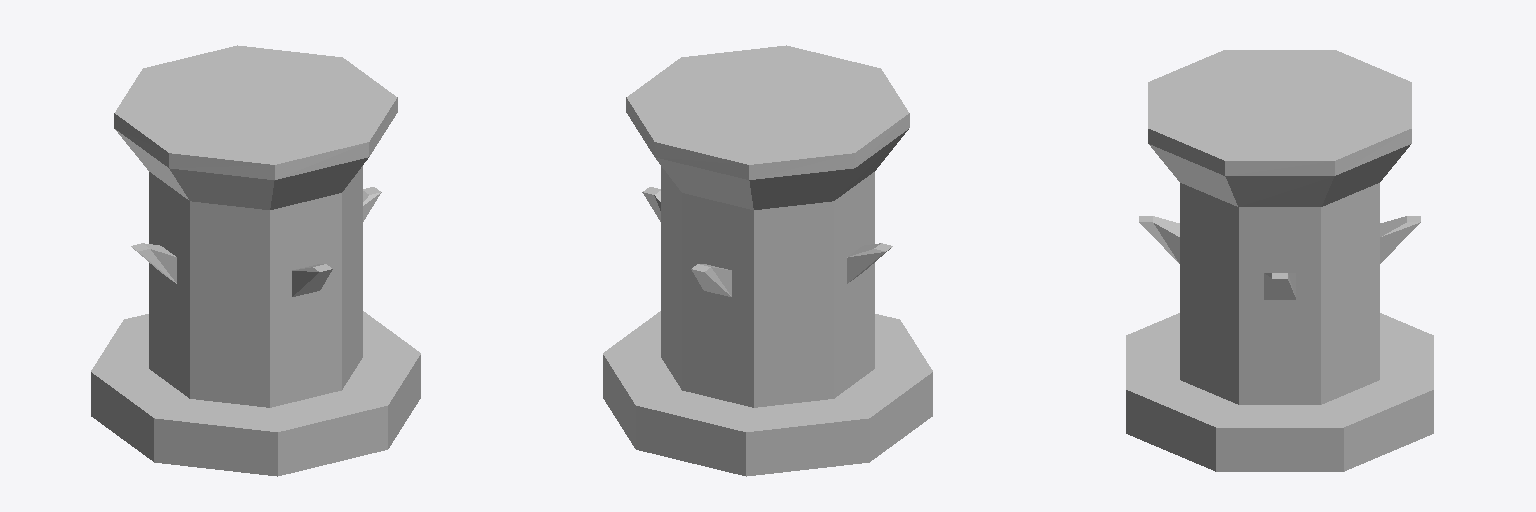
The model's file is aludel_base.obj.
3 renders of one model, left to right at view 1: azimuth 30°, elevation 25°; view 2: azimuth 150°, elevation 25°; view 3: azimuth 270°, elevation 25°, orthographic.
Parts seen in each view (by area): view 1: aludel_base_Base; view 2: aludel_base_Base; view 3: aludel_base_Base.
Boxes of the visible parts, <box> form: aludel_base_Base: <box>91,45,420,476</box>; aludel_base_Base: <box>603,45,932,476</box>; aludel_base_Base: <box>1126,50,1433,471</box>.
Bounding box in the file's own units: 0.9238 × 0.9974 × 0.9238.